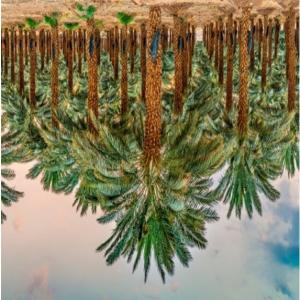palm tree: (0, 3, 300, 284)
